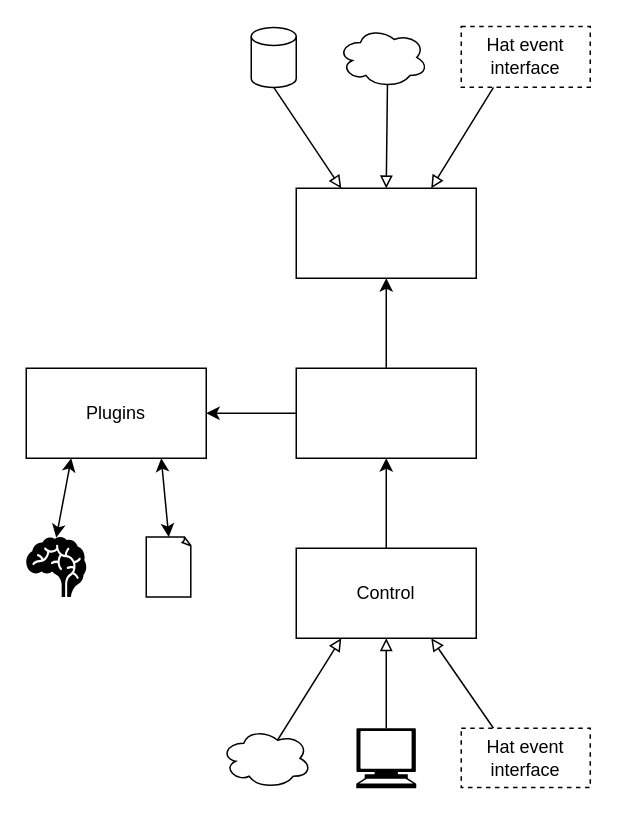
The diagram is 617 pixels wide and 815 high, and some of its shapes have lost their labels. The shapes that lost their labels are listed below. From the top down, each one's centre as x and y in pixels, then its label:
the point at 385,232: Backend
the point at 385,412: Engine
